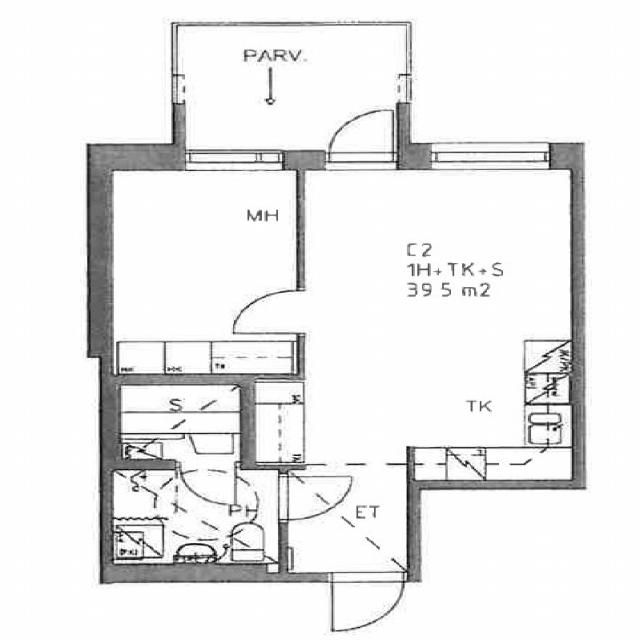door: (332, 572, 404, 630), (330, 108, 393, 169), (277, 476, 353, 520), (233, 290, 305, 334), (180, 464, 235, 507)
